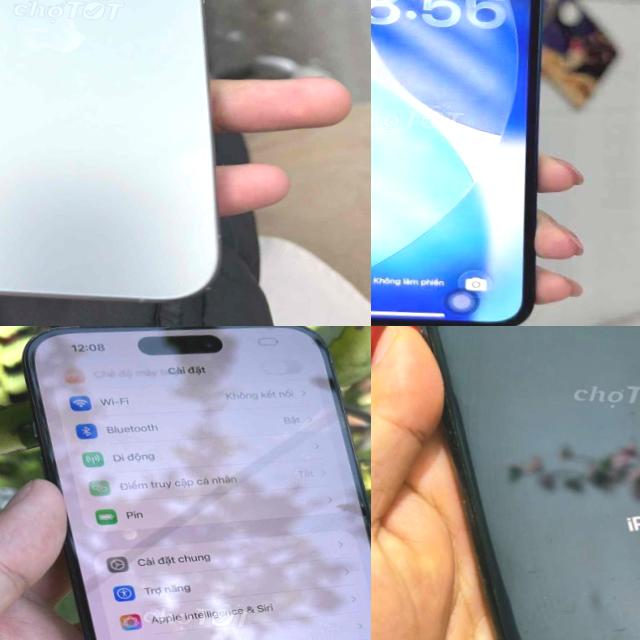gen_12_13: (371, 0, 556, 326)
gen_15: (0, 326, 371, 640), (0, 0, 246, 314)
gen_7_8: (371, 326, 640, 640)
